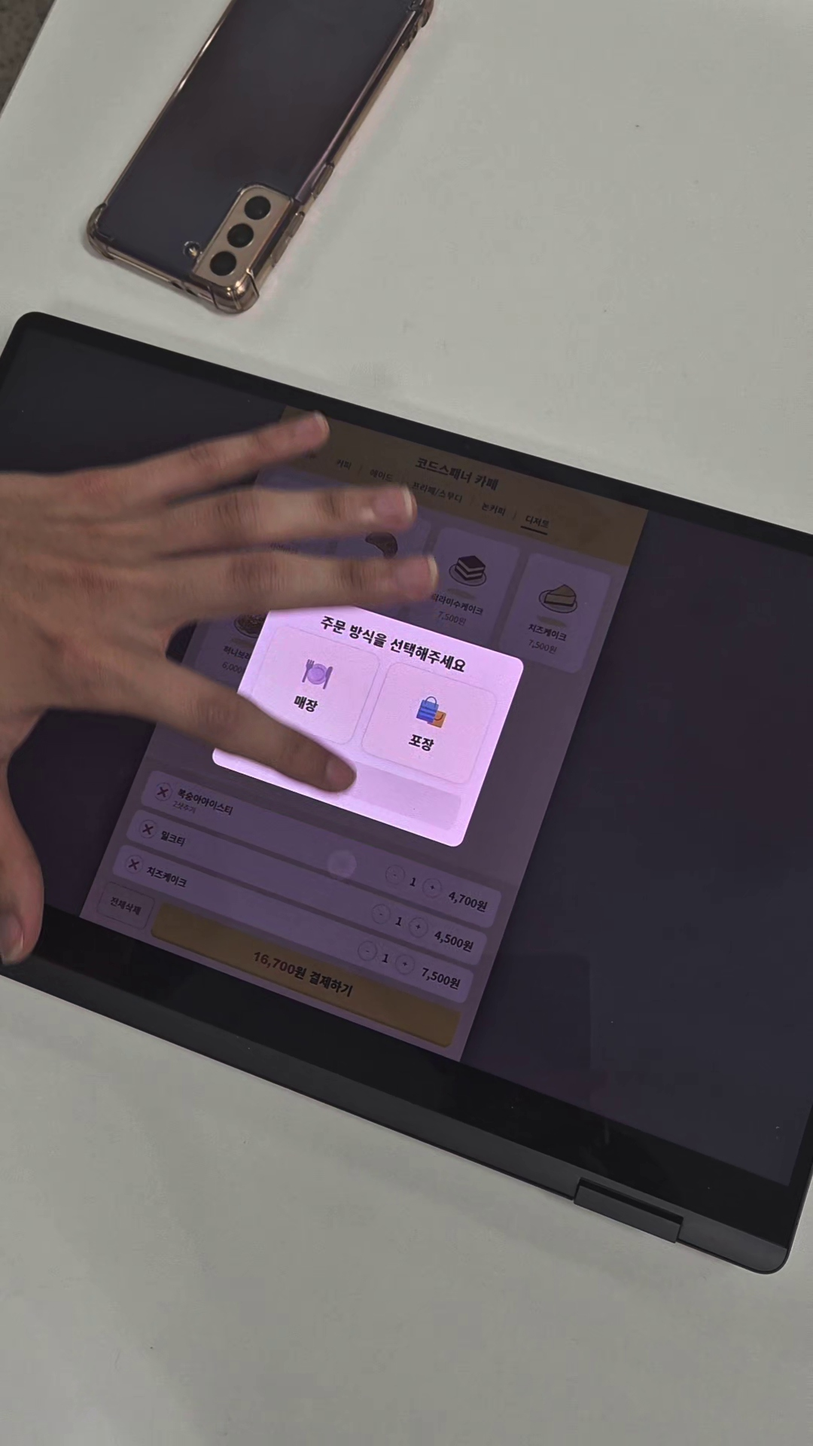action_button: (151, 903, 461, 1048), (358, 660, 500, 788), (242, 621, 383, 749), (97, 882, 155, 930)
cart_item: (138, 768, 503, 930), (111, 843, 475, 1005), (126, 808, 488, 967)
category_tab: (409, 480, 465, 505), (522, 513, 552, 531), (479, 501, 507, 519), (367, 468, 395, 485), (334, 458, 354, 472)
menu_back: (407, 522, 522, 646), (497, 551, 612, 674)
menu_name: (428, 591, 485, 617), (526, 622, 568, 643)
menu_price: (526, 638, 558, 656), (435, 609, 467, 627)
popup_modal: (209, 583, 527, 849)
